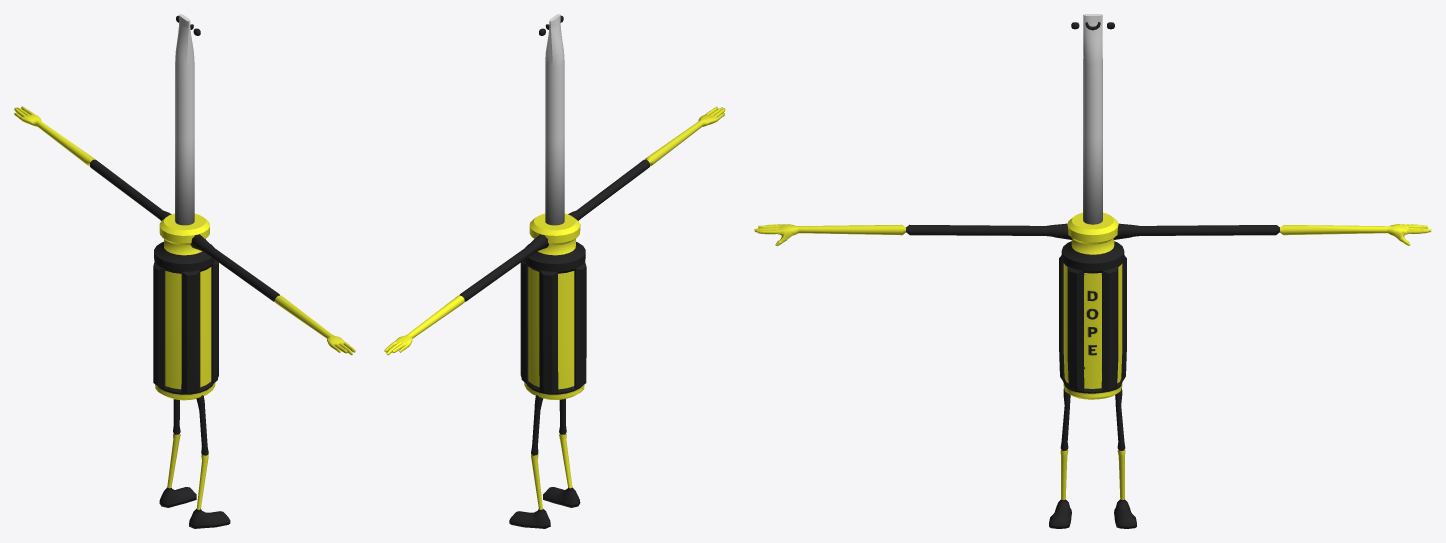
Rendered from Dope Screwdriver Character.glb.
3 views of the same model, side by side, from view 1: azimuth 30°, elevation 25°; view 2: azimuth 150°, elevation 25°; view 3: azimuth 270°, elevation 25° (orthographic).
Parts seen in each view (by area): view 1: _100Avatars_178_DOPEScrewdriver; view 2: _100Avatars_178_DOPEScrewdriver; view 3: _100Avatars_178_DOPEScrewdriver.
Boxes of the visible parts, x1=… form: _100Avatars_178_DOPEScrewdriver: x1=14, y1=14, x2=355, y2=528; _100Avatars_178_DOPEScrewdriver: x1=384, y1=14, x2=725, y2=528; _100Avatars_178_DOPEScrewdriver: x1=754, y1=14, x2=1431, y2=528.
Bounding box in the file's own units: 0.5412 × 4.54 × 5.56.
Materials: 1 (1 with a texture image).
